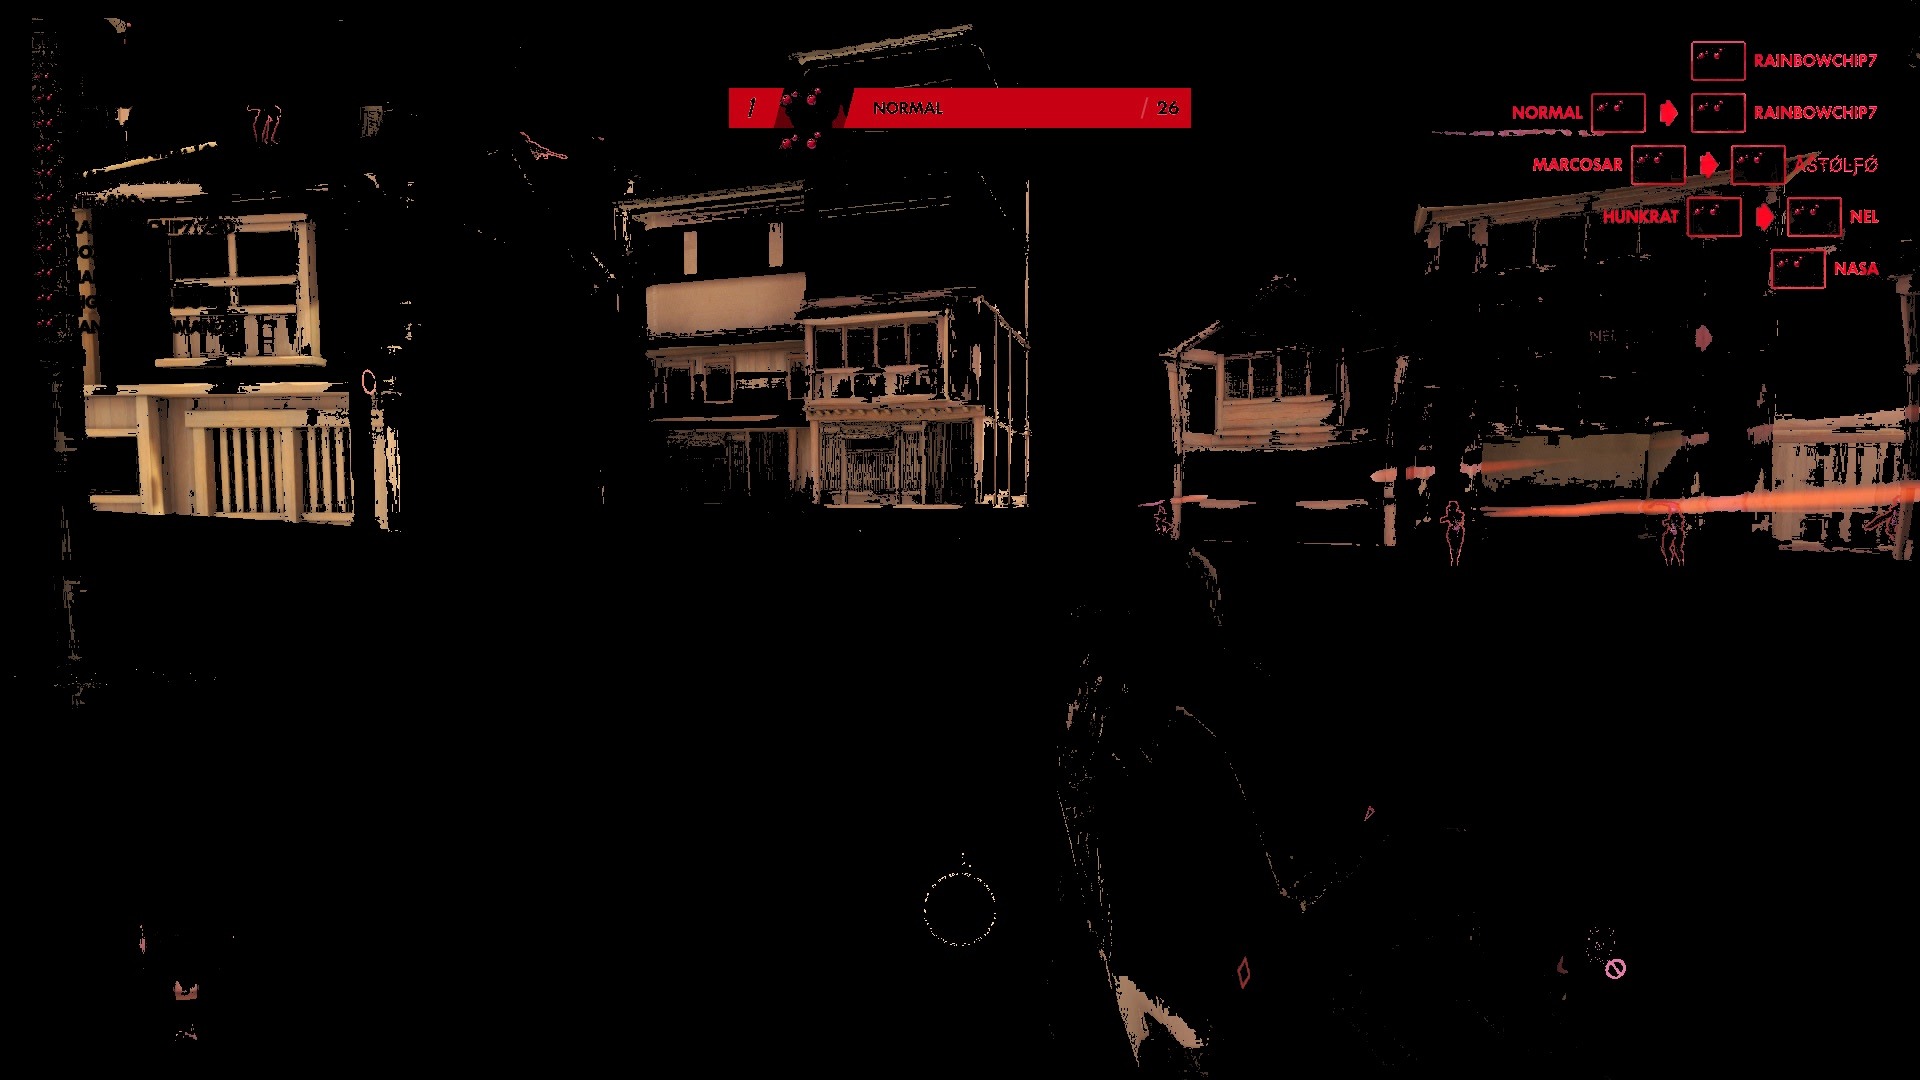widowmaker: (237, 78, 297, 154), (1433, 495, 1473, 584), (1654, 496, 1695, 578), (1863, 487, 1908, 554), (1149, 496, 1178, 545)
